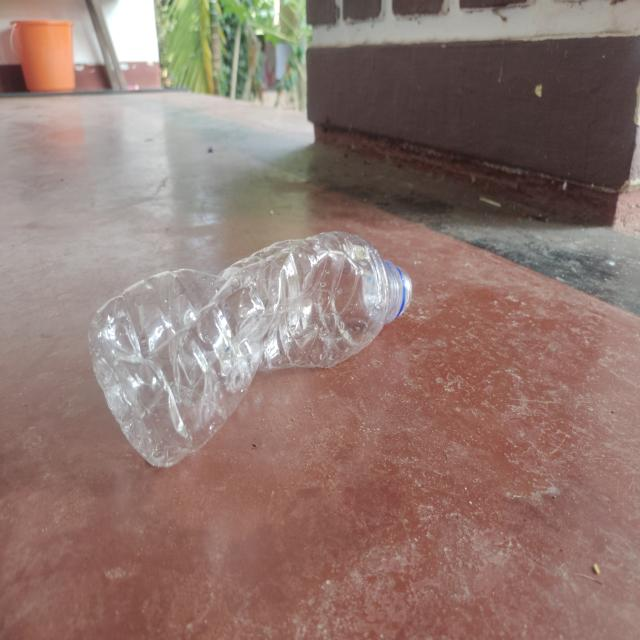plastic: (92, 226, 414, 464)
